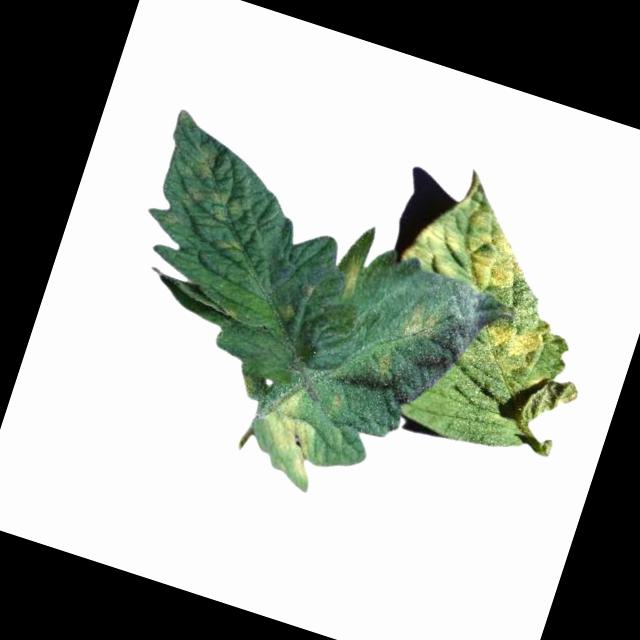Leaf_Mold: (397, 160, 553, 306), (150, 127, 265, 247), (242, 382, 341, 495), (473, 308, 558, 387), (332, 246, 371, 308), (399, 297, 441, 346)
